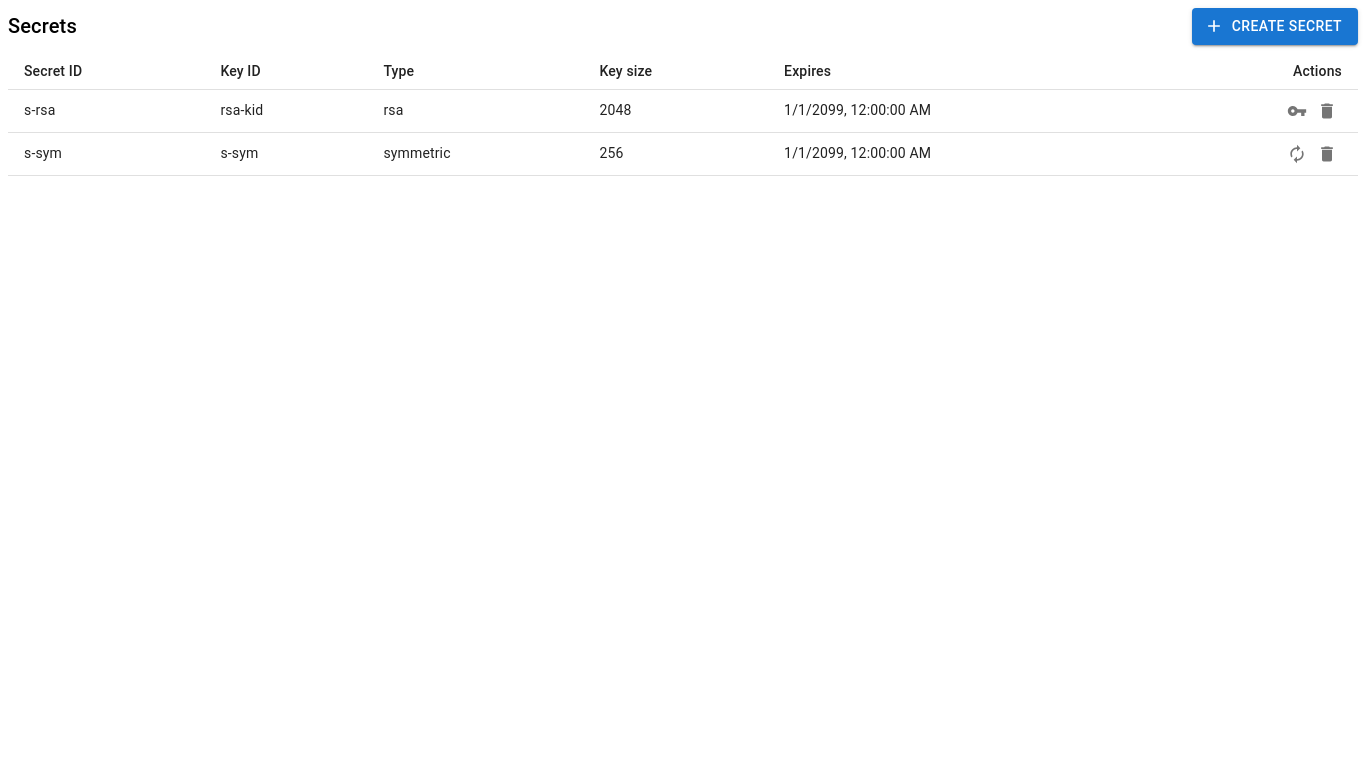
SecretsManager › rotate › discards the rotate dialog on cancel without rotating
Click the button with test id "secret-rotate-s-sym": [1297, 154] box [1282, 138, 1312, 168]
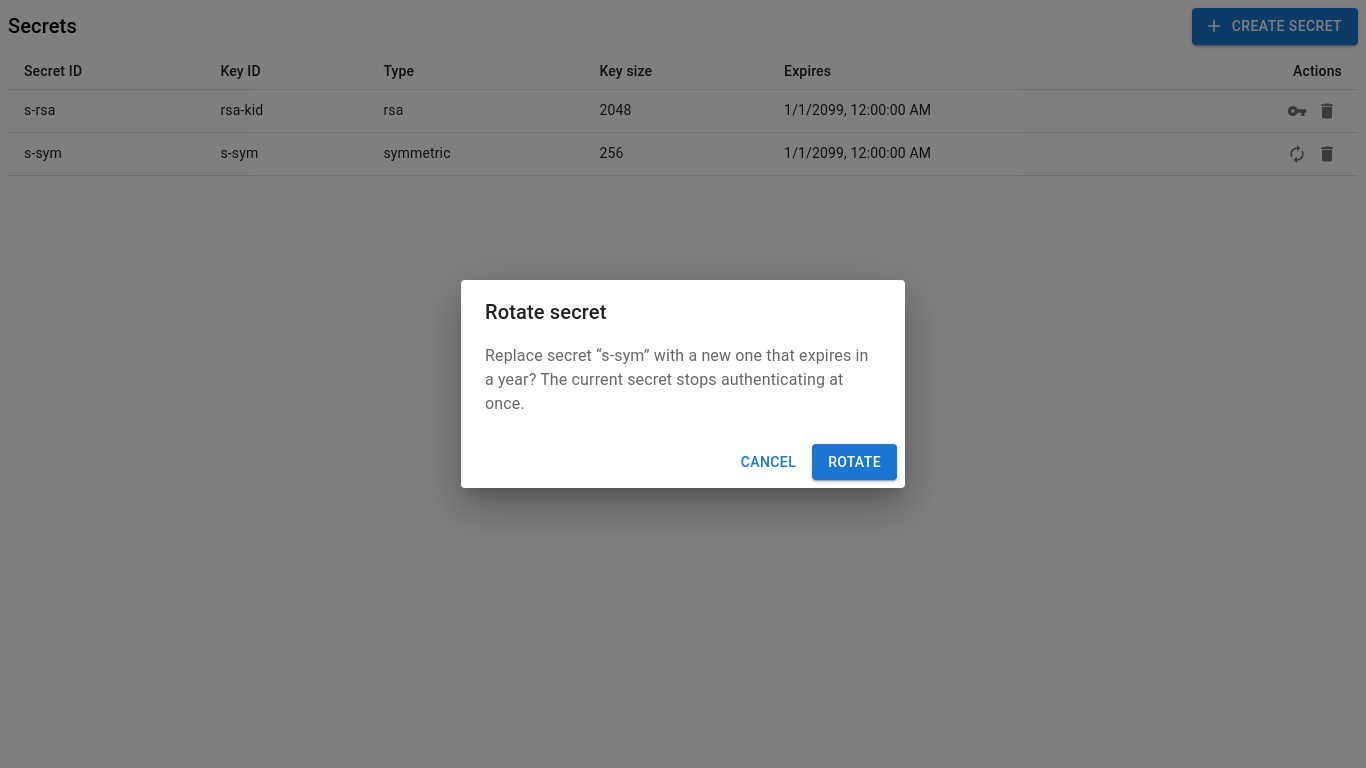
Click the button with test id "confirm-cancel": [768, 462] box [733, 444, 804, 480]
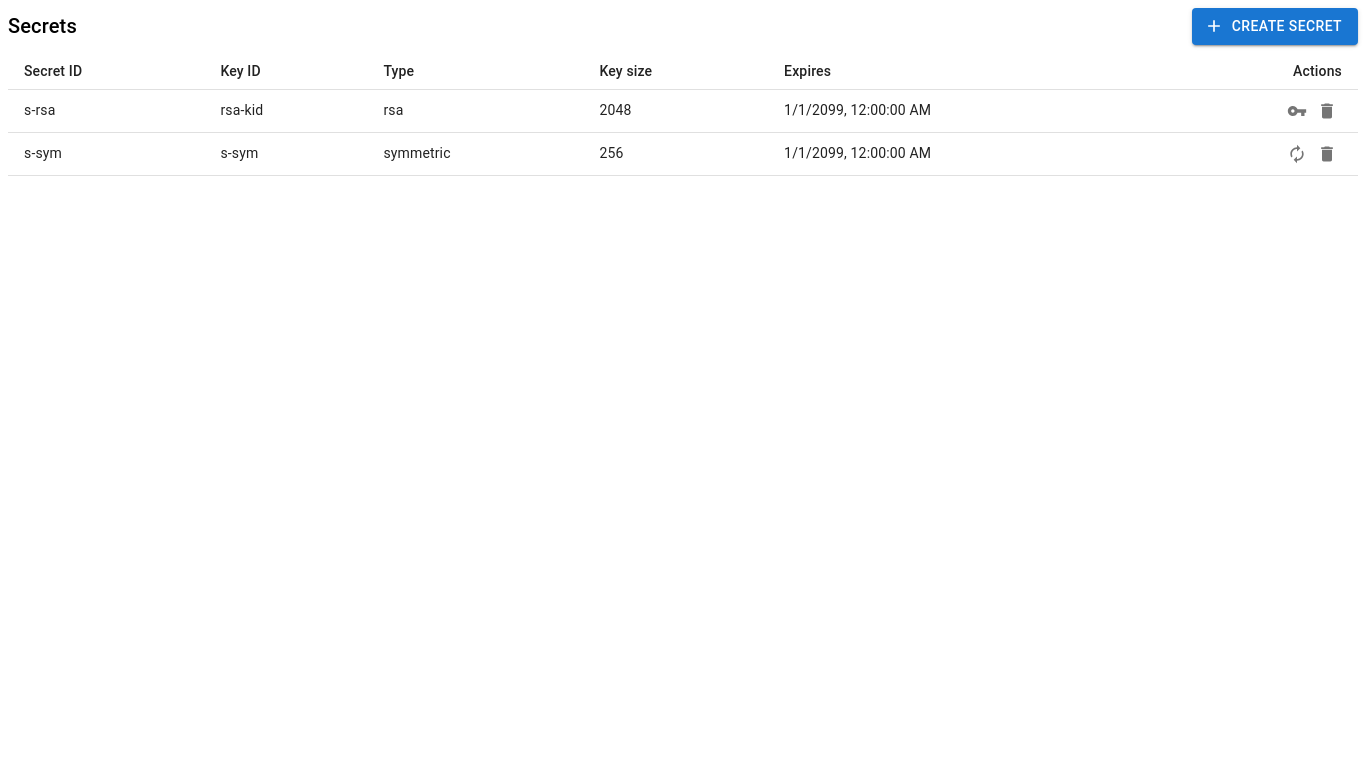
Expected: the heading "Rotate secret" is gone
